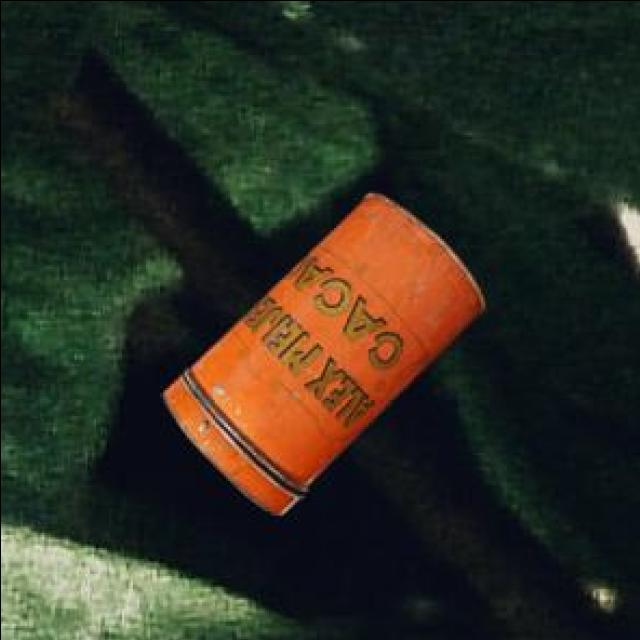logam: (165, 196, 488, 518)
